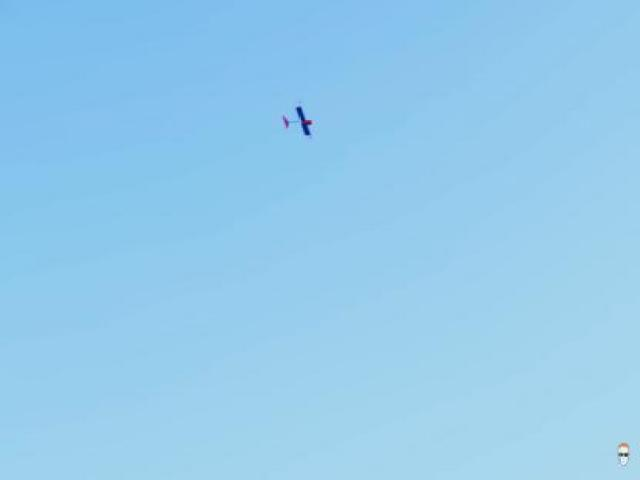uav: (281, 100, 313, 138)
